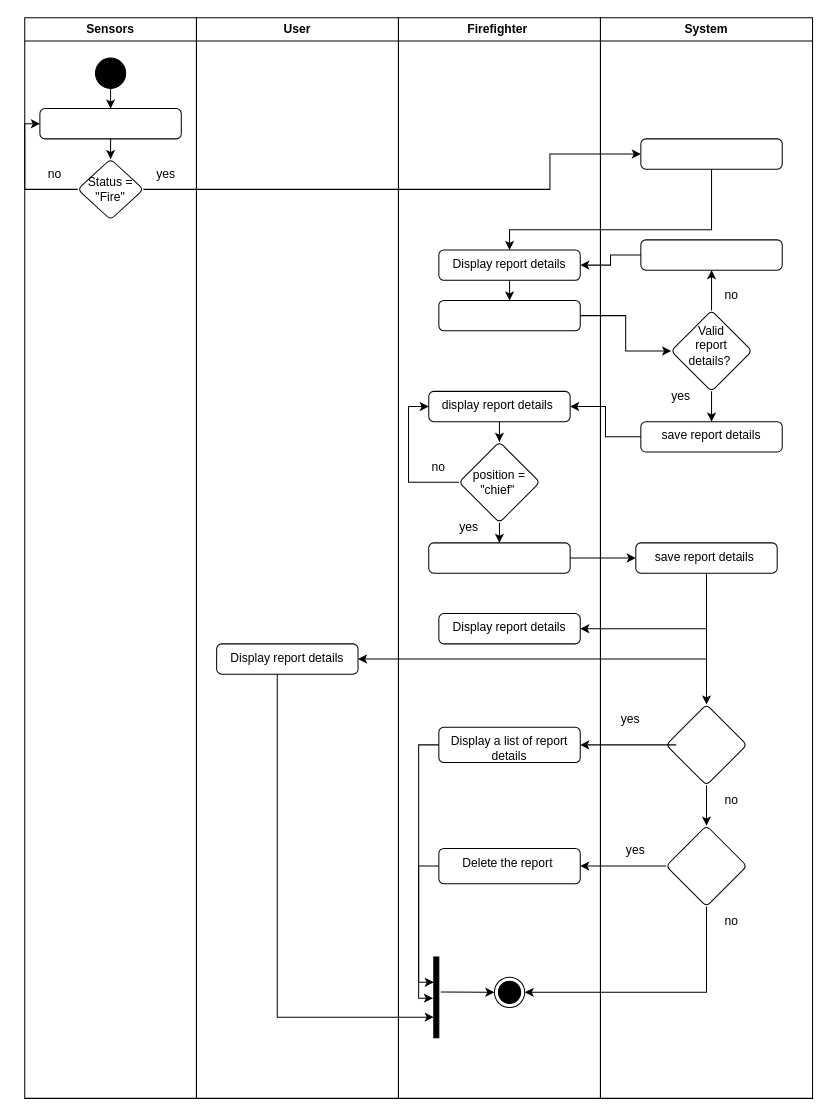
Some shapes in this 830 by 1116 pixel diagram are drawn without their labels. Each missing label, with the centre of its shape:
"Delete the report?" belongs at point 706,865.
"Dsiplay error message" belongs at point 711,254.
"edit report details" belongs at point 509,315.
"Generate Report" belongs at point 711,153.
"Sensor data log" belongs at point 110,123.
"submit confirmation" belongs at point 499,557.
"view list of report?" belongs at point 706,744.
